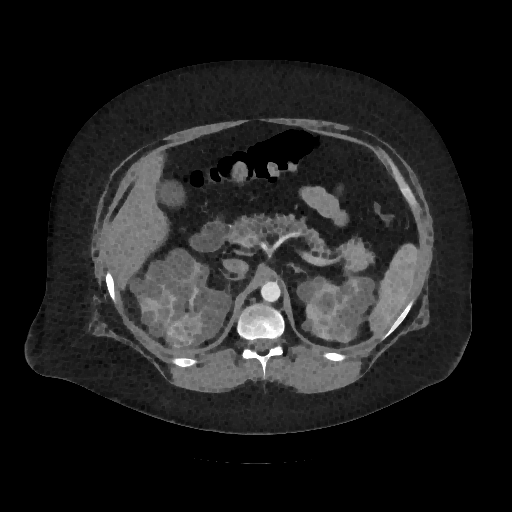Lesion: (163, 313, 204, 346)
